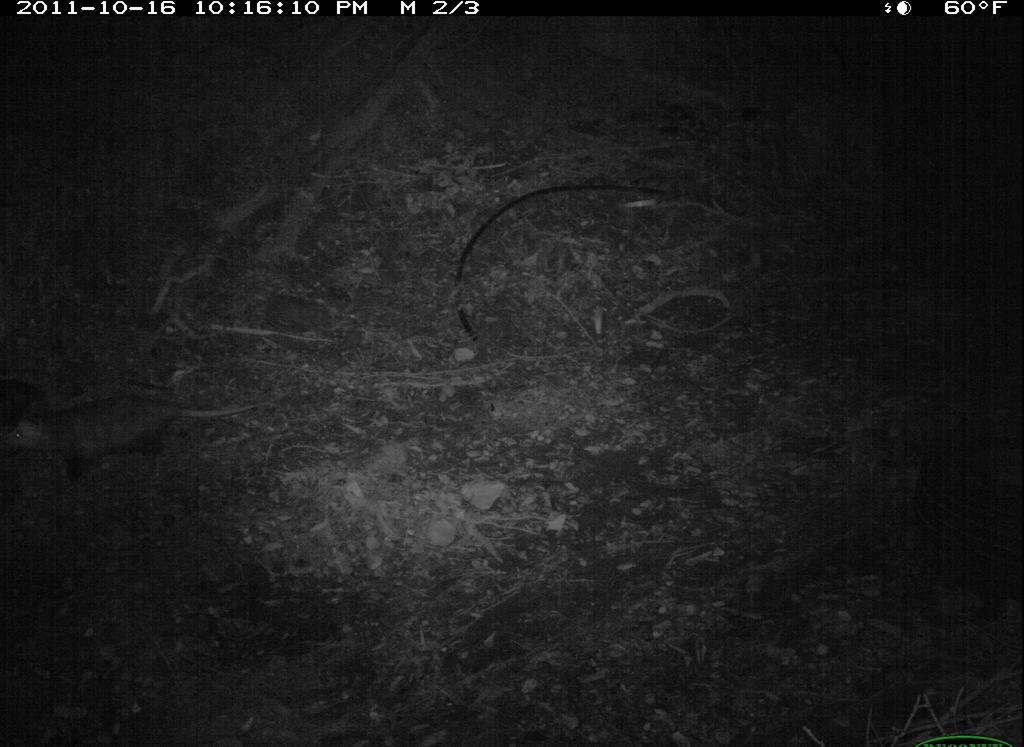opossum: (1, 386, 263, 493)
